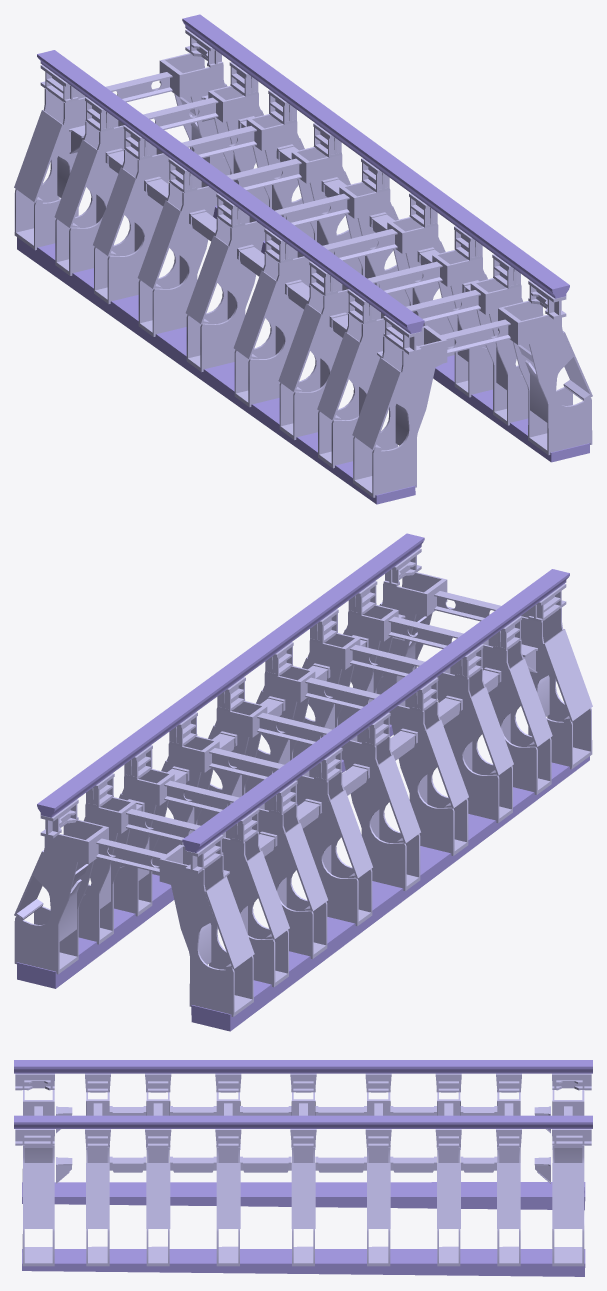
Rendered from support-feet.glb.
The picture shows the model from 3 angles, top to bottom: view 1: azimuth 30°, elevation 25°; view 2: azimuth 150°, elevation 25°; view 3: azimuth 270°, elevation 25°; orthographic projection. The views are drawn at different scales.
Visible parts, largest first — view 1: feet; view 2: feet; view 3: feet.
Part boxes in pixels (bbox=[...]): feet: bbox=[14, 14, 592, 504]; feet: bbox=[14, 533, 592, 1031]; feet: bbox=[14, 1060, 592, 1276].
Bounding box in the file's own units: 9.09 × 7.3 × 26.42.
